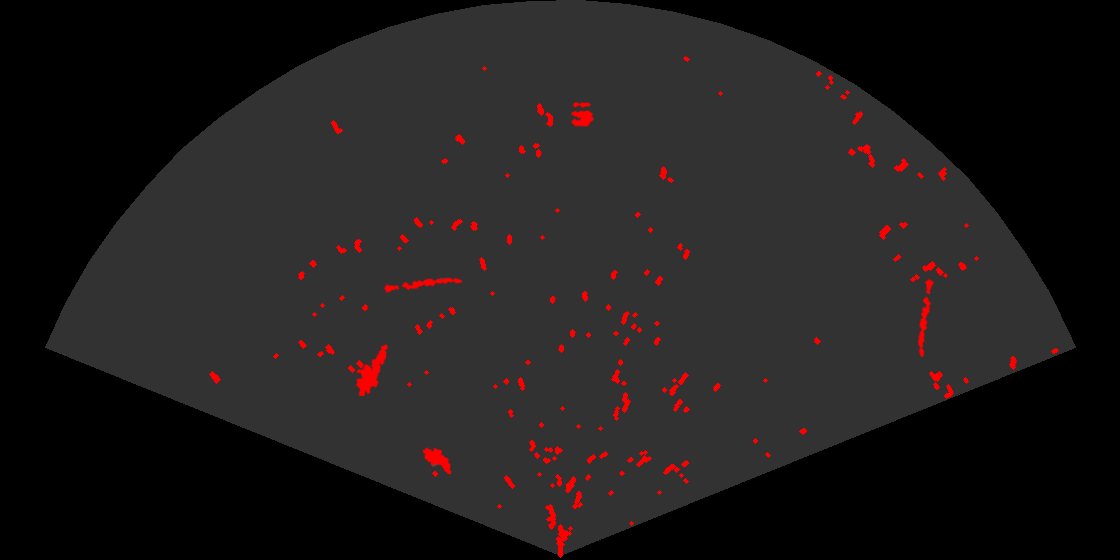AUV: (421, 446, 453, 476)
ball: (569, 101, 595, 128)
chain: (916, 276, 935, 358), (381, 276, 464, 294)
frogman: (354, 342, 389, 396)
